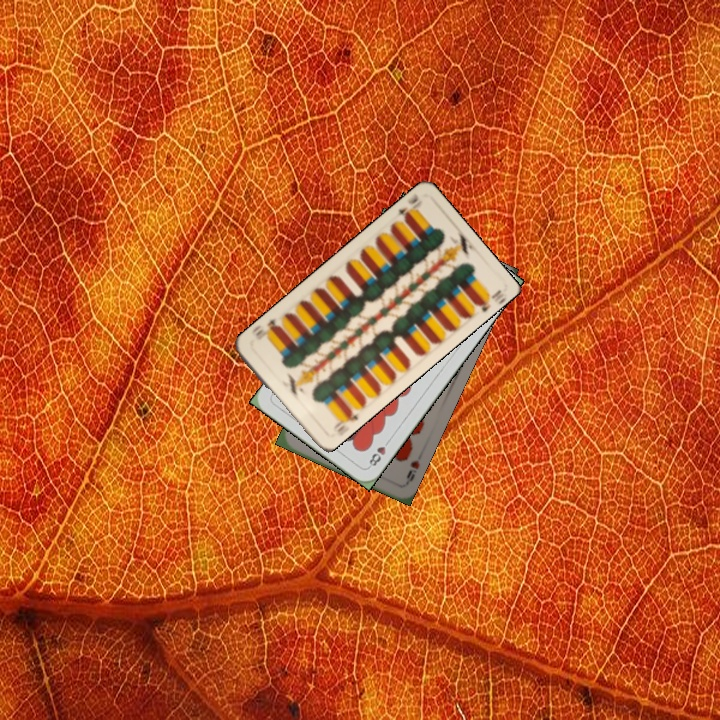E10: (389, 191, 421, 224), (329, 405, 361, 435)
H8: (364, 435, 393, 470)
H9: (402, 456, 422, 487)
